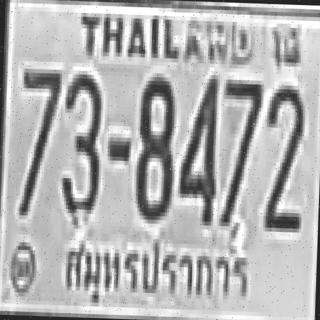N02: (263, 81, 304, 228)
N03: (59, 70, 102, 214)
N04: (177, 70, 218, 222)
N07: (17, 66, 60, 214), (219, 76, 262, 223)
N08: (133, 74, 173, 218)
P57: (58, 227, 252, 317)
